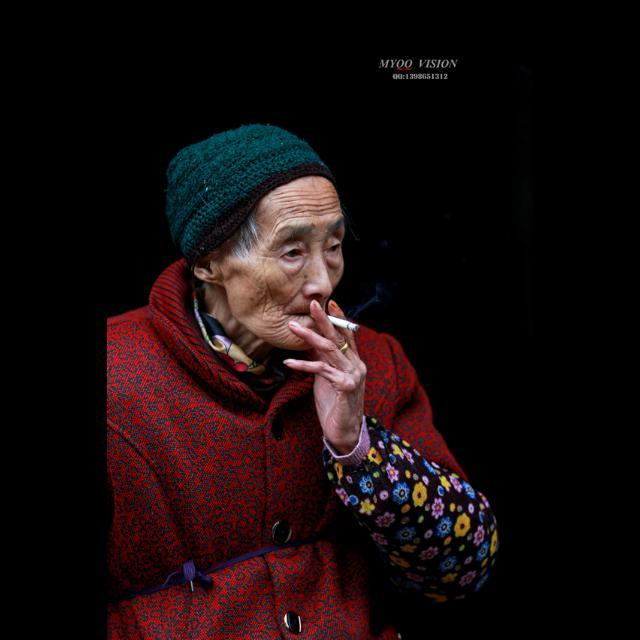rokok: (324, 313, 360, 332)
